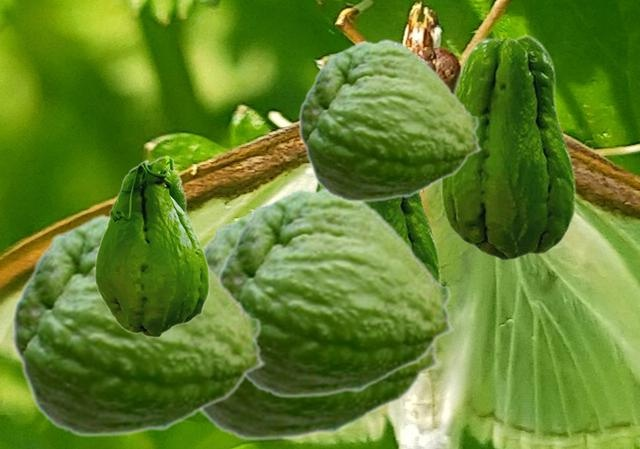sayote: (198, 201, 442, 441), (11, 211, 266, 437), (216, 185, 455, 398), (440, 34, 575, 260), (298, 38, 482, 202), (94, 155, 209, 337), (314, 181, 440, 279)
